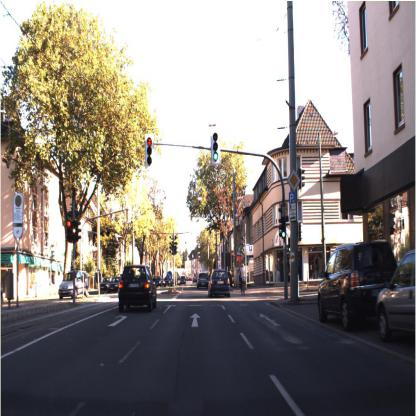other: (287, 165, 302, 194)
